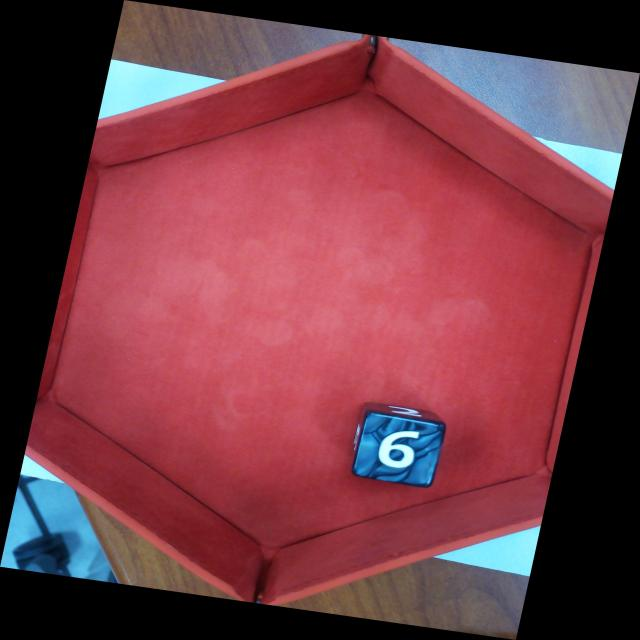dice: (348, 411, 451, 490)
